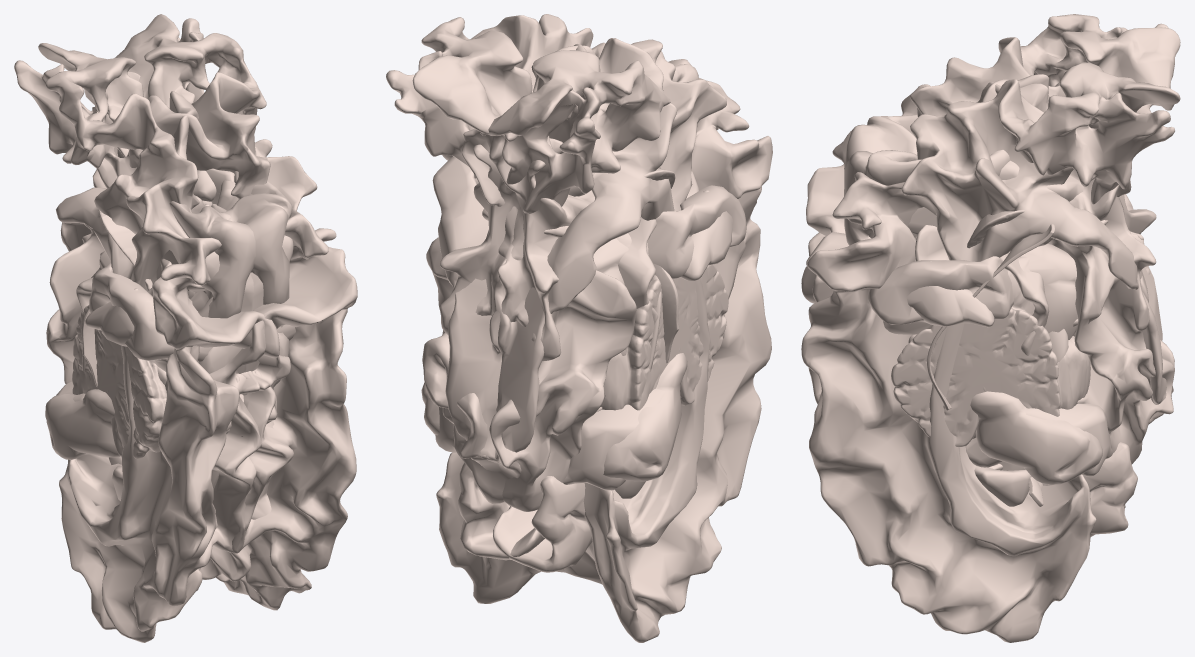
Rendered from atlas_brain.glb.
3 renders of one model, left to right at view 1: azimuth 30°, elevation 25°; view 2: azimuth 150°, elevation 25°; view 3: azimuth 270°, elevation 25°, orthographic. The views are drawn at different scales.
Visible parts, largest first — view 1: white matter of left cerebral hemisphere, white matter of right cerebral hemisphere, left superior frontal gyrus, cerebellum, right superior frontal gyrus, right postcentral gyrus, left precentral gyrus, left postcentral gyrus, right cingulate gyrus, corpus callosum, region of dura mater, right middle temporal gyrus; view 2: white matter of left cerebral hemisphere, white matter of right cerebral hemisphere, cerebellum, left superior frontal gyrus, left precentral gyrus, right postcentral gyrus, right precentral gyrus, right superior frontal gyrus, left postcentral gyrus, region of dura mater, left occipital lobe; view 3: white matter of right cerebral hemisphere, white matter of left cerebral hemisphere, cerebellum, left postcentral gyrus, right superior frontal gyrus, right precentral gyrus, right postcentral gyrus, right occipital lobe, left superior frontal gyrus, left precentral gyrus, region of dura mater, right inferior temporal gyrus (+2 smaller).
Part boxes in pixels (x1,y1,x2,y2): white matter of left cerebral hemisphere: (14,43,290,642); white matter of right cerebral hemisphere: (46,14,357,610); left superior frontal gyrus: (109,201,293,464); cerebellum: (72,305,166,458); right superior frontal gyrus: (205,171,292,409); right postcentral gyrus: (45,389,120,459); left precentral gyrus: (89,262,212,362); left postcentral gyrus: (85,288,167,371); right cingulate gyrus: (217,180,274,519); corpus callosum: (98,210,152,291); region of dura mater: (81,309,97,387); right middle temporal gyrus: (193,170,216,201); white matter of left cerebral hemisphere: (422,38,772,642); white matter of right cerebral hemisphere: (386,14,698,603); cerebellum: (600,233,728,410); left superior frontal gyrus: (493,59,698,572); left precentral gyrus: (435,185,746,452); right postcentral gyrus: (603,353,687,481); right precentral gyrus: (562,388,665,490); right superior frontal gyrus: (458,42,605,560); left postcentral gyrus: (421,190,732,435); region of dura mater: (442,155,679,363); left occipital lobe: (593,238,628,284); white matter of right cerebral hemisphere: (801,62,1180,642); white matter of left cerebral hemisphere: (801,14,1180,470); cerebellum: (891,256,1090,446); left postcentral gyrus: (970,391,1102,484); right superior frontal gyrus: (844,150,1137,536); right precentral gyrus: (867,251,1014,324); right postcentral gyrus: (883,261,994,334); right occipital lobe: (908,243,1077,343); left superior frontal gyrus: (844,114,1125,508); left precentral gyrus: (1025,403,1112,476); region of dura mater: (927,224,1054,506); right inferior temporal gyrus: (974,466,1031,506).
Size of the model in its own units: 2183901 by 5346495 by 3311965.
